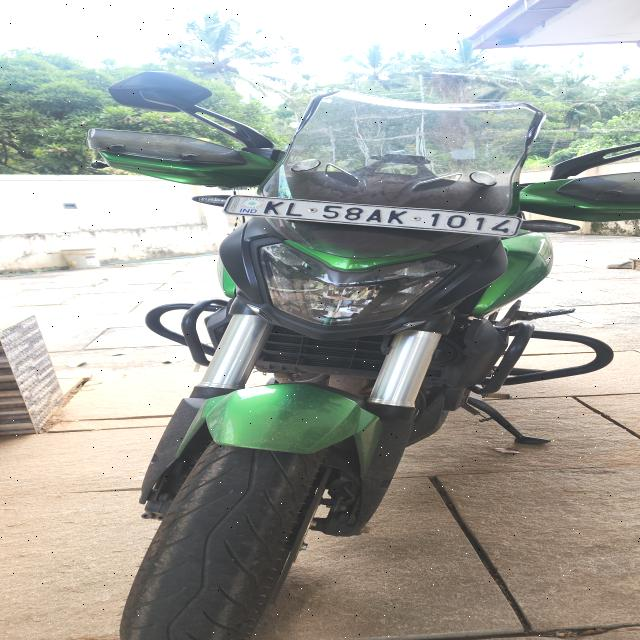headlight: (259, 242, 459, 326)
